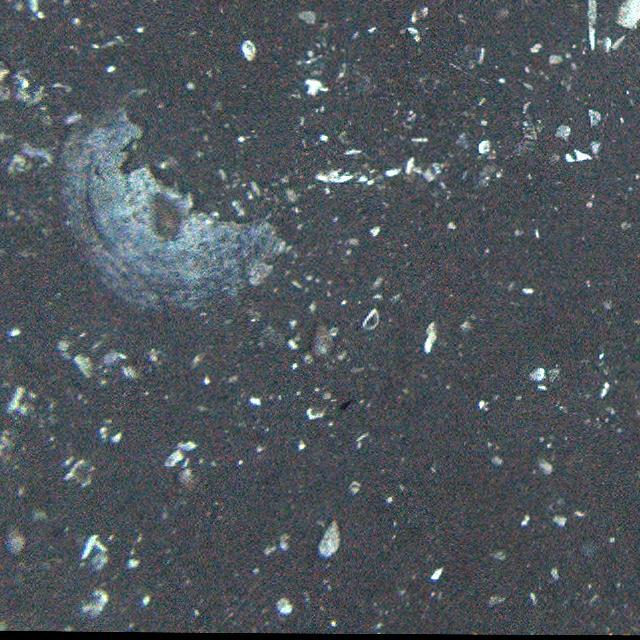whelk: (310, 310, 336, 360)
